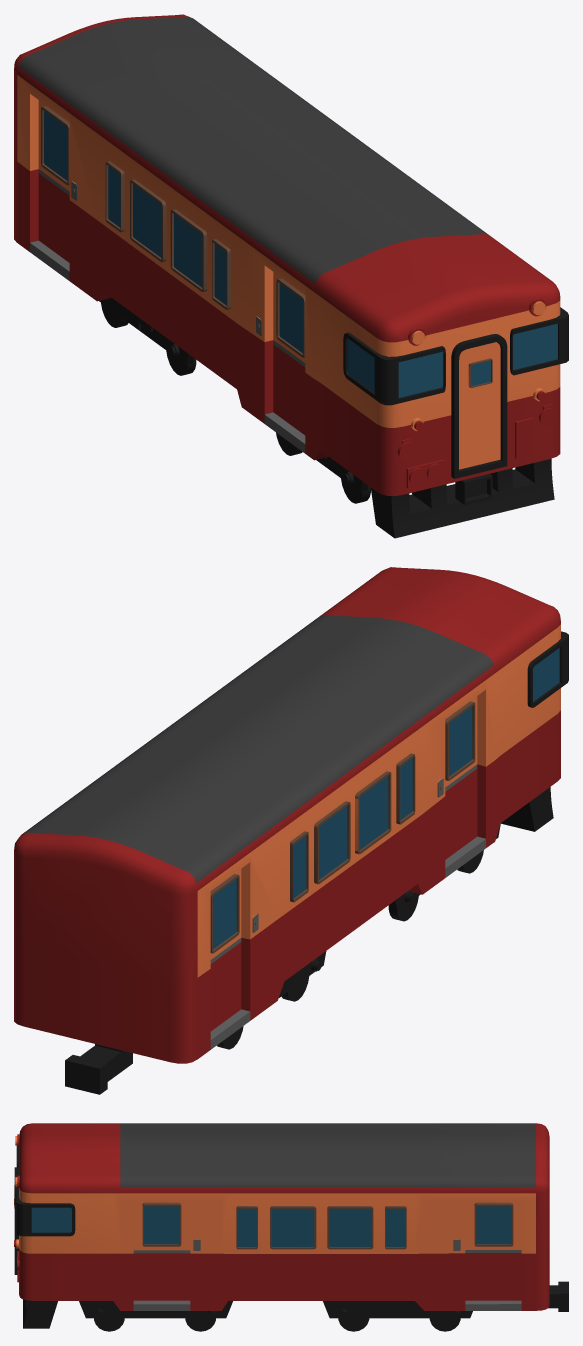
The model's file is walktrain.FBX.
The picture shows the model from 3 angles, top to bottom: view 1: azimuth 30°, elevation 25°; view 2: azimuth 150°, elevation 25°; view 3: azimuth 270°, elevation 25°; orthographic projection. The views are drawn at different scales.
Parts seen in each view (by area): view 1: Object002; view 2: Object002; view 3: Object002.
Part boxes in pixels (x1=…): Object002: x1=14, y1=14, x2=568, y2=538; Object002: x1=14, y1=567, x2=568, y2=1094; Object002: x1=14, y1=1123, x2=568, y2=1331.
Size of the model in its own units: 41.11 by 50.34 by 151.
